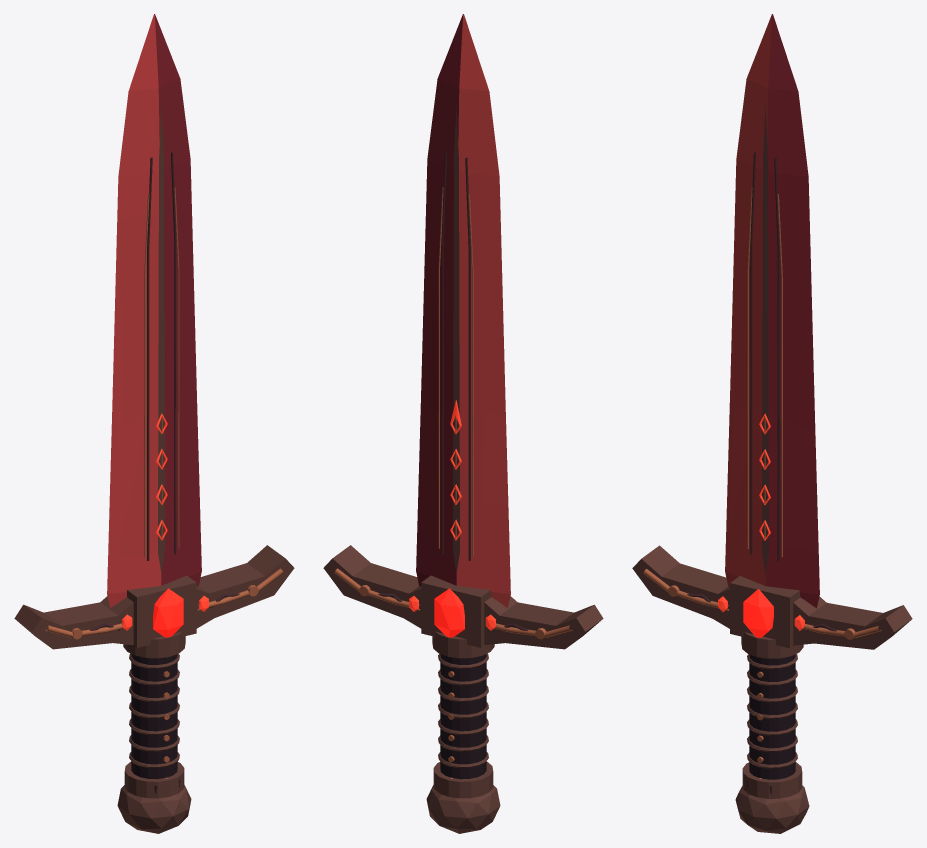
File: fractura_carmesi.glb
3 views of the same model, side by side, from view 1: azimuth 30°, elevation 25°; view 2: azimuth 150°, elevation 25°; view 3: azimuth 330°, elevation 25° (orthographic).
Parts seen in each view (by area): view 1: Punta - Carmesi - Hoja - acero facetado, Base - Carmesi - Hoja - acero facetado, Base - Carmesi - Guarda alada, Base - Carmesi - Empunadura, Base - Carmesi - Centro de la guarda, Base - Carmesi - Pomo, Punta - Carmesi - Nervio de la hoja, Base - Carmesi - Collar inferior, Base - Carmesi - Gema del guardian, Base - Carmesi - Collar superior, Base - Carmesi - Nervio de la hoja, Punta - Canal de acero.001 (+1 smaller); view 2: Punta - Carmesi - Hoja - acero facetado, Base - Carmesi - Hoja - acero facetado, Base - Carmesi - Guarda alada, Base - Carmesi - Empunadura, Base - Carmesi - Centro de la guarda, Base - Carmesi - Pomo, Punta - Carmesi - Nervio de la hoja.001, Base - Carmesi - Collar inferior, Base - Carmesi - Gema del guardian.001, Base - Carmesi - Collar superior, Base - Carmesi - Nervio de la hoja.001, Punta - Canal de acero.003 (+1 smaller); view 3: Punta - Carmesi - Hoja - acero facetado, Base - Carmesi - Hoja - acero facetado, Base - Carmesi - Guarda alada, Base - Carmesi - Empunadura, Base - Carmesi - Centro de la guarda, Base - Carmesi - Pomo, Punta - Carmesi - Nervio de la hoja, Base - Carmesi - Collar inferior, Base - Carmesi - Gema del guardian, Base - Carmesi - Collar superior, Base - Carmesi - Nervio de la hoja, Punta - Canal de acero.001 (+1 smaller).
Part boxes in pixels (left/top/right/bottom): Punta - Carmesi - Hoja - acero facetado: left=112, top=14, right=197, bottom=424; Base - Carmesi - Hoja - acero facetado: left=107, top=405, right=201, bottom=607; Base - Carmesi - Guarda alada: left=14, top=545, right=294, bottom=649; Base - Carmesi - Empunadura: left=131, top=654, right=177, bottom=779; Base - Carmesi - Centro de la guarda: left=127, top=575, right=196, bottom=647; Base - Carmesi - Pomo: left=117, top=784, right=191, bottom=833; Punta - Carmesi - Nervio de la hoja: left=158, top=104, right=164, bottom=402; Base - Carmesi - Collar inferior: left=124, top=761, right=184, bottom=798; Base - Carmesi - Gema del guardian: left=153, top=588, right=183, bottom=637; Base - Carmesi - Collar superior: left=123, top=631, right=185, bottom=658; Base - Carmesi - Nervio de la hoja: left=158, top=402, right=164, bottom=574; Punta - Canal de acero.001: left=171, top=152, right=176, bottom=409; Punta - Carmesi - Hoja - acero facetado: left=420, top=14, right=505, bottom=417; Base - Carmesi - Hoja - acero facetado: left=416, top=400, right=510, bottom=607; Base - Carmesi - Guarda alada: left=323, top=545, right=603, bottom=649; Base - Carmesi - Empunadura: left=440, top=654, right=486, bottom=779; Base - Carmesi - Centro de la guarda: left=421, top=575, right=491, bottom=647; Base - Carmesi - Pomo: left=426, top=784, right=500, bottom=833; Punta - Carmesi - Nervio de la hoja.001: left=453, top=104, right=459, bottom=400; Base - Carmesi - Collar inferior: left=433, top=761, right=493, bottom=798; Base - Carmesi - Gema del guardian.001: left=434, top=588, right=464, bottom=637; Base - Carmesi - Collar superior: left=432, top=631, right=494, bottom=658; Base - Carmesi - Nervio de la hoja.001: left=453, top=400, right=459, bottom=574; Punta - Canal de acero.003: left=441, top=152, right=446, bottom=409; Punta - Carmesi - Hoja - acero facetado: left=730, top=14, right=815, bottom=431; Base - Carmesi - Hoja - acero facetado: left=725, top=397, right=819, bottom=608; Base - Carmesi - Guarda alada: left=632, top=545, right=912, bottom=649; Base - Carmesi - Empunadura: left=749, top=654, right=795, bottom=779; Base - Carmesi - Centro de la guarda: left=730, top=576, right=800, bottom=648; Base - Carmesi - Pomo: left=735, top=785, right=809, bottom=833; Punta - Carmesi - Nervio de la hoja: left=762, top=104, right=768, bottom=403; Base - Carmesi - Collar inferior: left=742, top=762, right=802, bottom=798; Base - Carmesi - Gema del guardian: left=743, top=589, right=773, bottom=637; Base - Carmesi - Collar superior: left=741, top=632, right=803, bottom=658; Base - Carmesi - Nervio de la hoja: left=762, top=402, right=768, bottom=574; Punta - Canal de acero.001: left=774, top=157, right=779, bottom=417.
Bounding box in the file's own units: 2.32 × 6.9 × 0.58.
